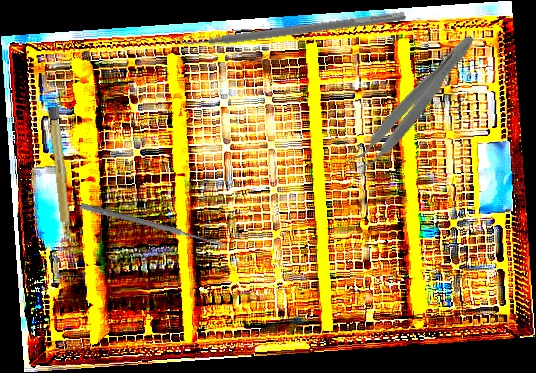Scalpel Handle: (47, 106, 73, 241)
Spatula Surgical: (172, 1, 407, 54)
Surgical Spoon: (79, 202, 227, 249)
Tissue Forceps: (344, 25, 481, 181)
